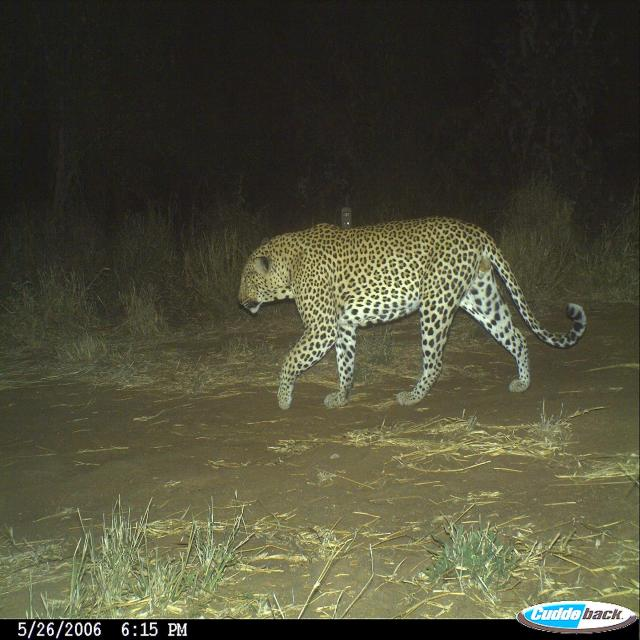Leopard: (241, 221, 582, 408)
